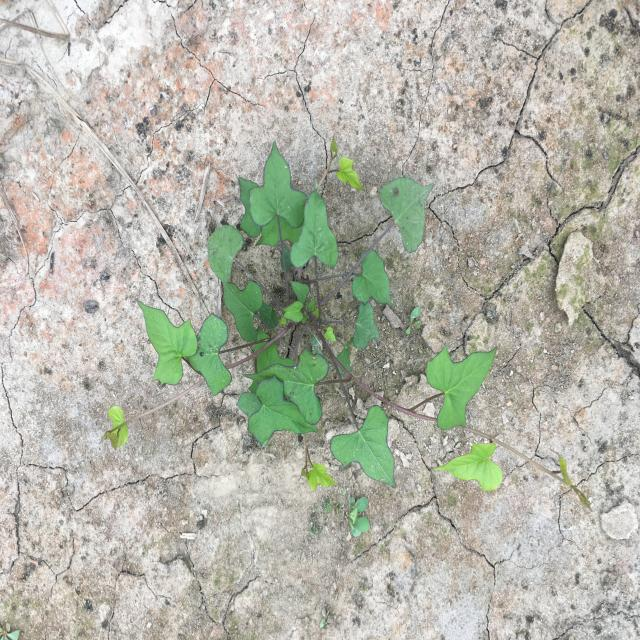MorningGlory: (101, 136, 591, 510)
